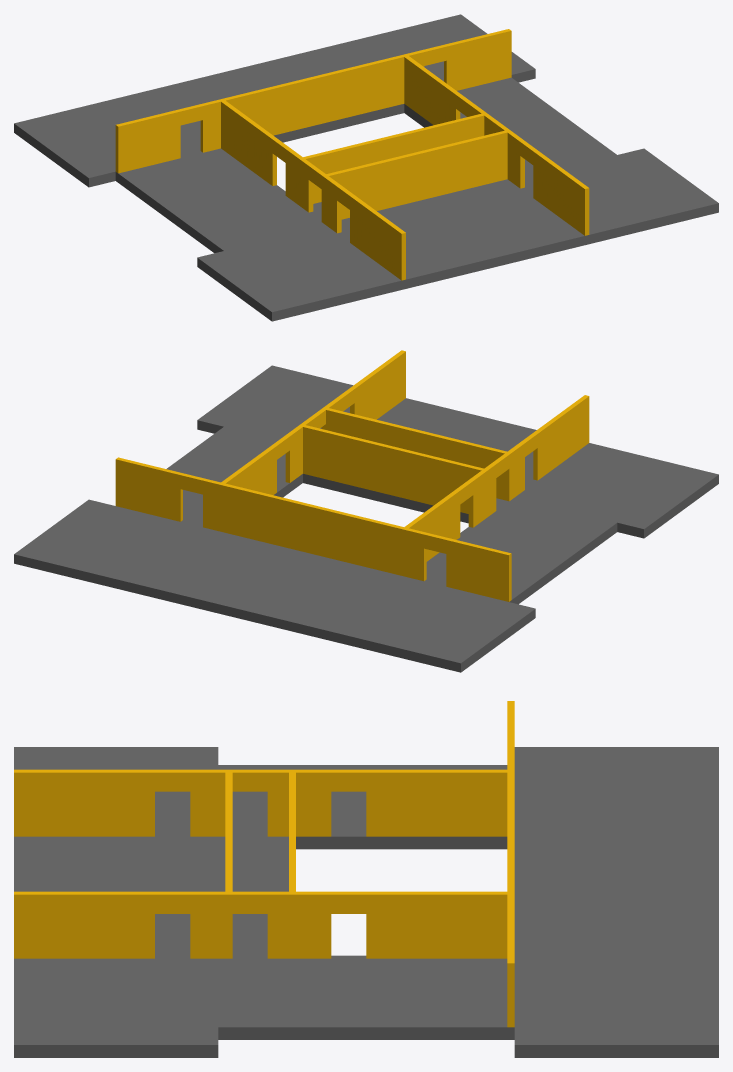
Rendered from office.dae.
3 renders of one model, top to bottom at view 1: azimuth 30°, elevation 25°; view 2: azimuth 150°, elevation 25°; view 3: azimuth 270°, elevation 25°, orthographic. The views are drawn at different scales.
Visible parts, largest first — view 1: abbf77c9-8046-4890-9764-a4ffca67dbe5, fd24fa01-3511-4bf6-90d8-4b30bb8c26c2; view 2: abbf77c9-8046-4890-9764-a4ffca67dbe5, fd24fa01-3511-4bf6-90d8-4b30bb8c26c2; view 3: abbf77c9-8046-4890-9764-a4ffca67dbe5, fd24fa01-3511-4bf6-90d8-4b30bb8c26c2.
Part boxes in pixels (<box>): abbf77c9-8046-4890-9764-a4ffca67dbe5: <box>14,14,718,321</box>; fd24fa01-3511-4bf6-90d8-4b30bb8c26c2: <box>115,29,589,280</box>; abbf77c9-8046-4890-9764-a4ffca67dbe5: <box>14,365,718,672</box>; fd24fa01-3511-4bf6-90d8-4b30bb8c26c2: <box>115,350,589,601</box>; abbf77c9-8046-4890-9764-a4ffca67dbe5: <box>14,747,718,1057</box>; fd24fa01-3511-4bf6-90d8-4b30bb8c26c2: <box>14,701,514,1027</box>.
Size of the model in its own units: 10 by 10 by 1.2.
